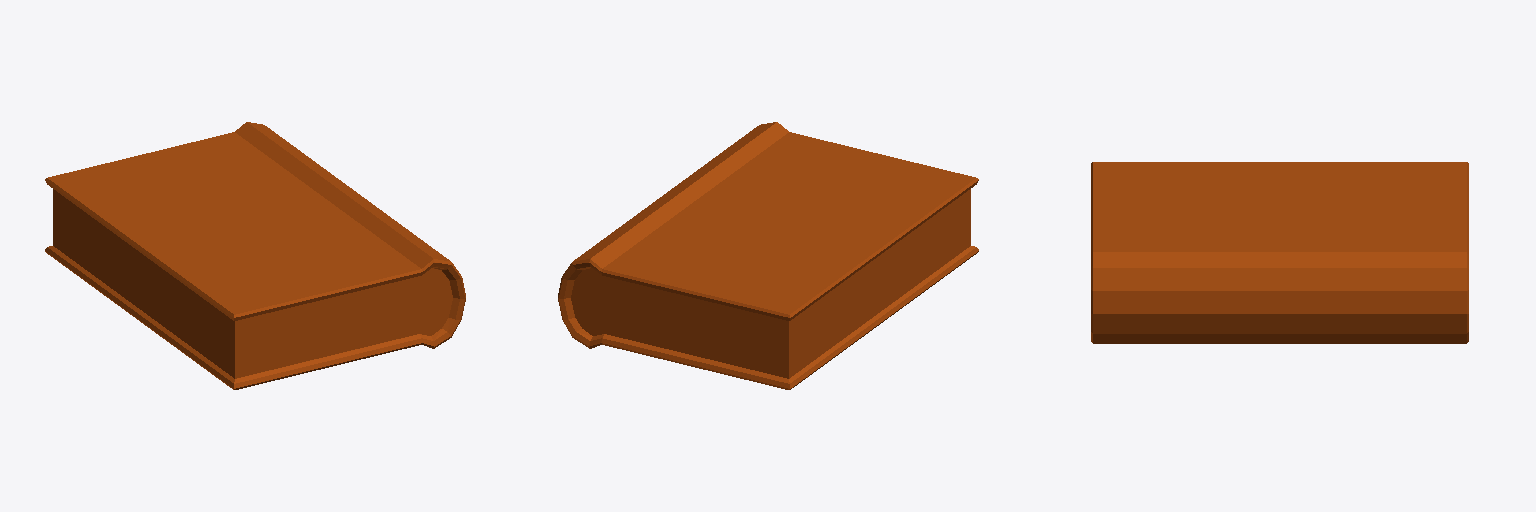
File: Book_Closed.obj
The picture shows the model from 3 angles: view 1: azimuth 30°, elevation 25°; view 2: azimuth 150°, elevation 25°; view 3: azimuth 270°, elevation 25°; orthographic projection.
Visible parts, largest first — view 1: Book_Closed; view 2: Book_Closed; view 3: Book_Closed.
Part boxes in pixels (x1,y1,x2,y2): Book_Closed: (45, 122, 465, 389); Book_Closed: (558, 122, 978, 389); Book_Closed: (1091, 162, 1468, 343).
Bounding box in the file's own units: 0.1983 × 0.0732 × 0.2778.